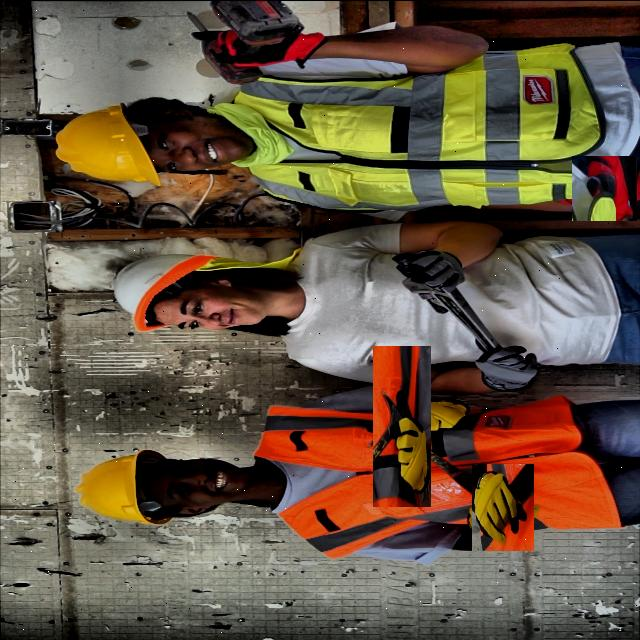gloved: (347, 371, 457, 481), (214, 15, 322, 73), (466, 470, 540, 544), (468, 334, 553, 389), (572, 154, 638, 220), (400, 242, 471, 288)
